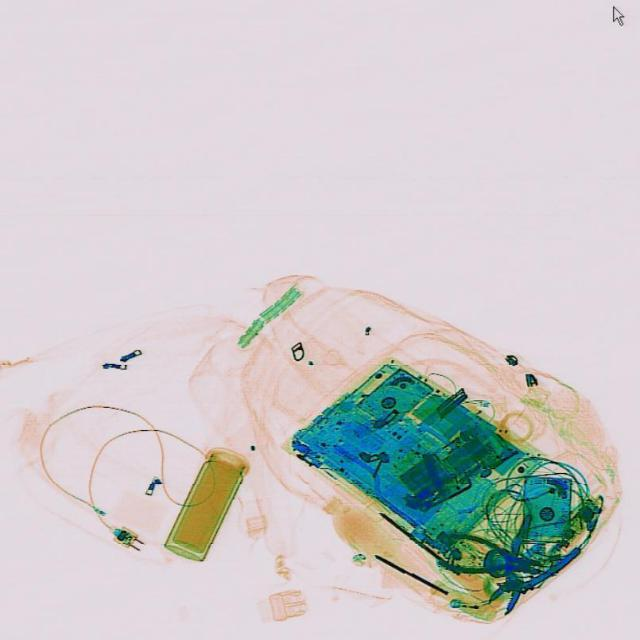Pliers: (466, 510, 584, 626), (435, 527, 545, 589)
